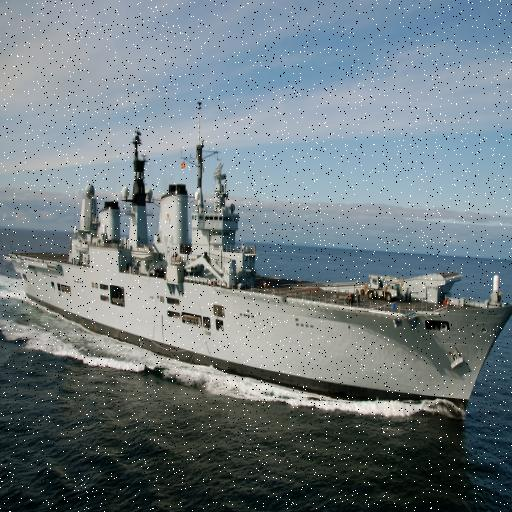Portanaves: (4, 81, 512, 427)
